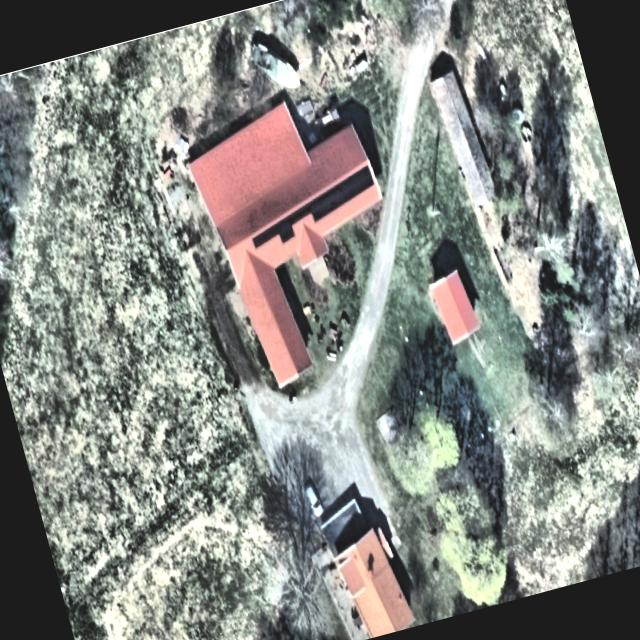roof_pv: (296, 158, 386, 228), (247, 214, 303, 257), (284, 198, 318, 230)
